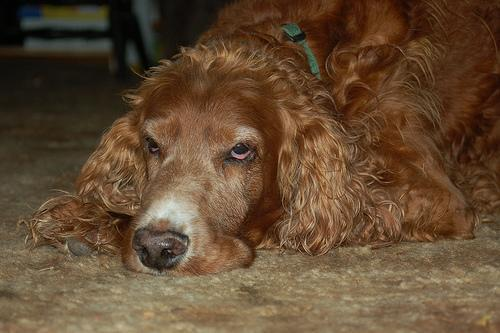Irish_setter: (15, 1, 499, 277)
